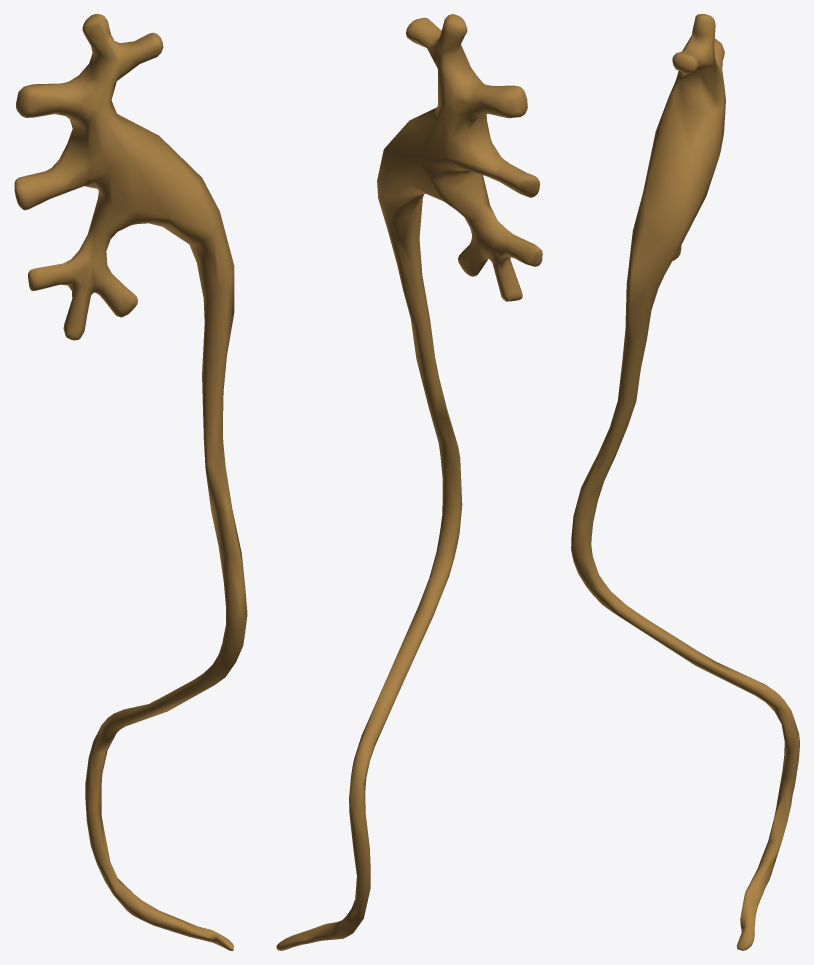
File: Ureter_right.glb
The picture shows the model from 3 angles, left to right: view 1: azimuth 30°, elevation 25°; view 2: azimuth 150°, elevation 25°; view 3: azimuth 270°, elevation 25°; orthographic projection. The views are drawn at different scales.
Parts seen in each view (by area): view 1: Ureter.r_grp1.775; view 2: Ureter.r_grp1.775; view 3: Ureter.r_grp1.775.
Boxes of the visible parts, x1=… form: Ureter.r_grp1.775: x1=14, y1=14, x2=247, y2=950; Ureter.r_grp1.775: x1=276, y1=14, x2=542, y2=950; Ureter.r_grp1.775: x1=571, y1=14, x2=799, y2=950.
Bounding box in the file's own units: 0.0634 × 0.2458 × 0.0586.
